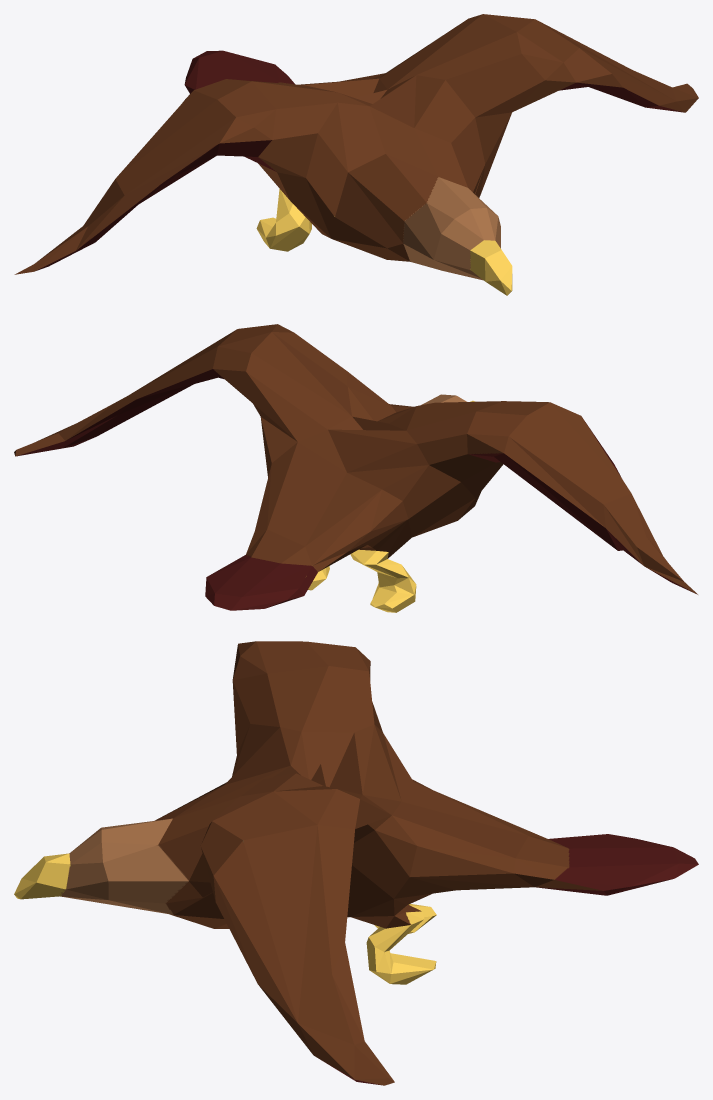
File: aguili_000013.obj
3 renders of one model, top to bottom at view 1: azimuth 30°, elevation 25°; view 2: azimuth 150°, elevation 25°; view 3: azimuth 270°, elevation 25°, orthographic. The views are drawn at different scales.
Parts seen in each view (by area): view 1: aguila.001_Cube.001; view 2: aguila.001_Cube.001; view 3: aguila.001_Cube.001.
Boxes of the visible parts, x1,y1,x2,y2 form: aguila.001_Cube.001: [14, 14, 698, 295]; aguila.001_Cube.001: [14, 324, 697, 612]; aguila.001_Cube.001: [14, 641, 698, 1085].
Size of the model in its own units: 76.79 by 22 by 56.5.
Materials: 1 (1 with a texture image).
